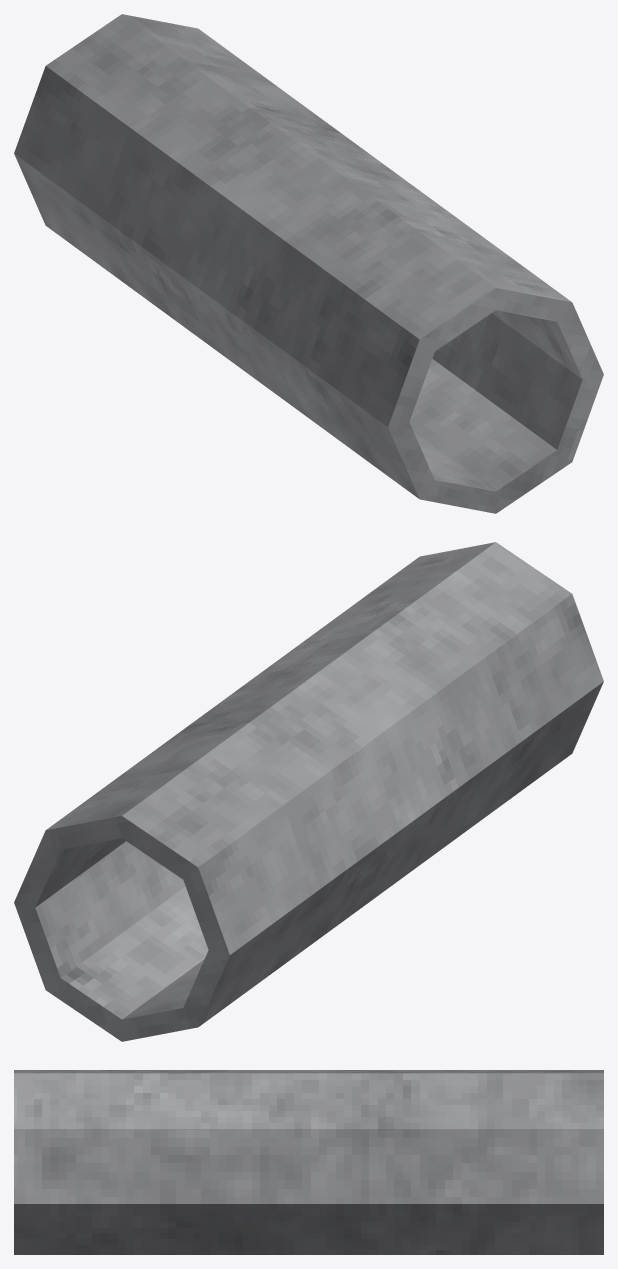
Rendered from Factory_HeavyPipe.glb.
3 views of the same model, one above another, from view 1: azimuth 30°, elevation 25°; view 2: azimuth 150°, elevation 25°; view 3: azimuth 270°, elevation 25° (orthographic). The views are drawn at different scales.
Visible parts, largest first — view 1: Factory_HeavyPipe; view 2: Factory_HeavyPipe; view 3: Factory_HeavyPipe.
Part boxes in pixels (x1,y1,x2,y2): Factory_HeavyPipe: [14, 14, 603, 513]; Factory_HeavyPipe: [14, 542, 603, 1041]; Factory_HeavyPipe: [14, 1070, 603, 1254].
Bounding box in the file's own units: 2 × 2 × 6.
1 material, 1 textured.
